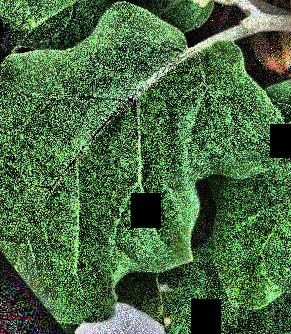HEALTHY: (1, 0, 291, 334)
